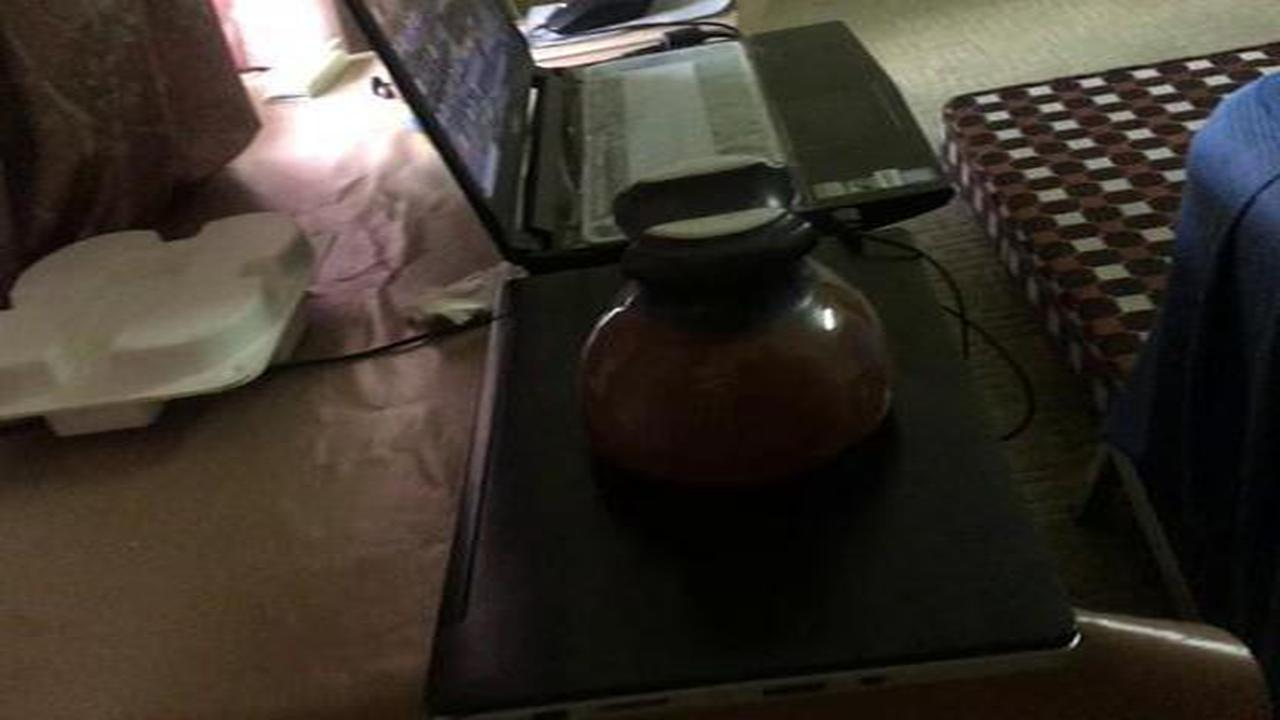insulator_pin: (542, 146, 939, 521)
